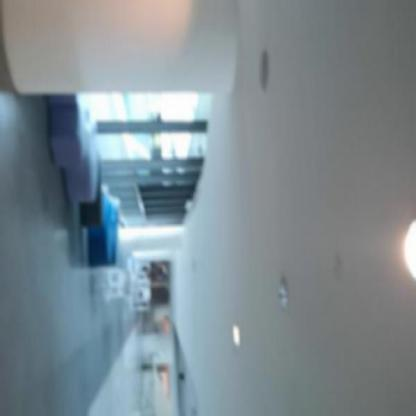light_on: (394, 215, 416, 287), (219, 313, 251, 360)
